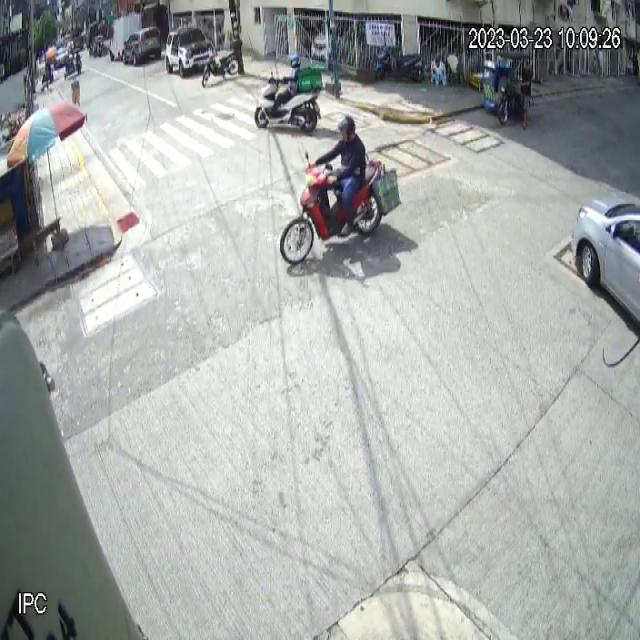Motorcycle: (278, 146, 389, 267), (252, 65, 326, 135)
